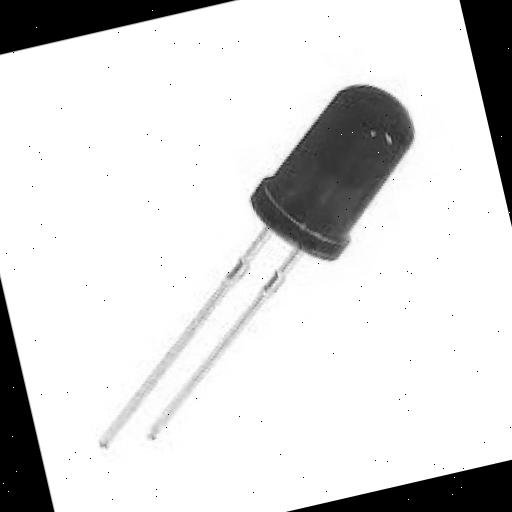LED: (20, 43, 512, 499)
